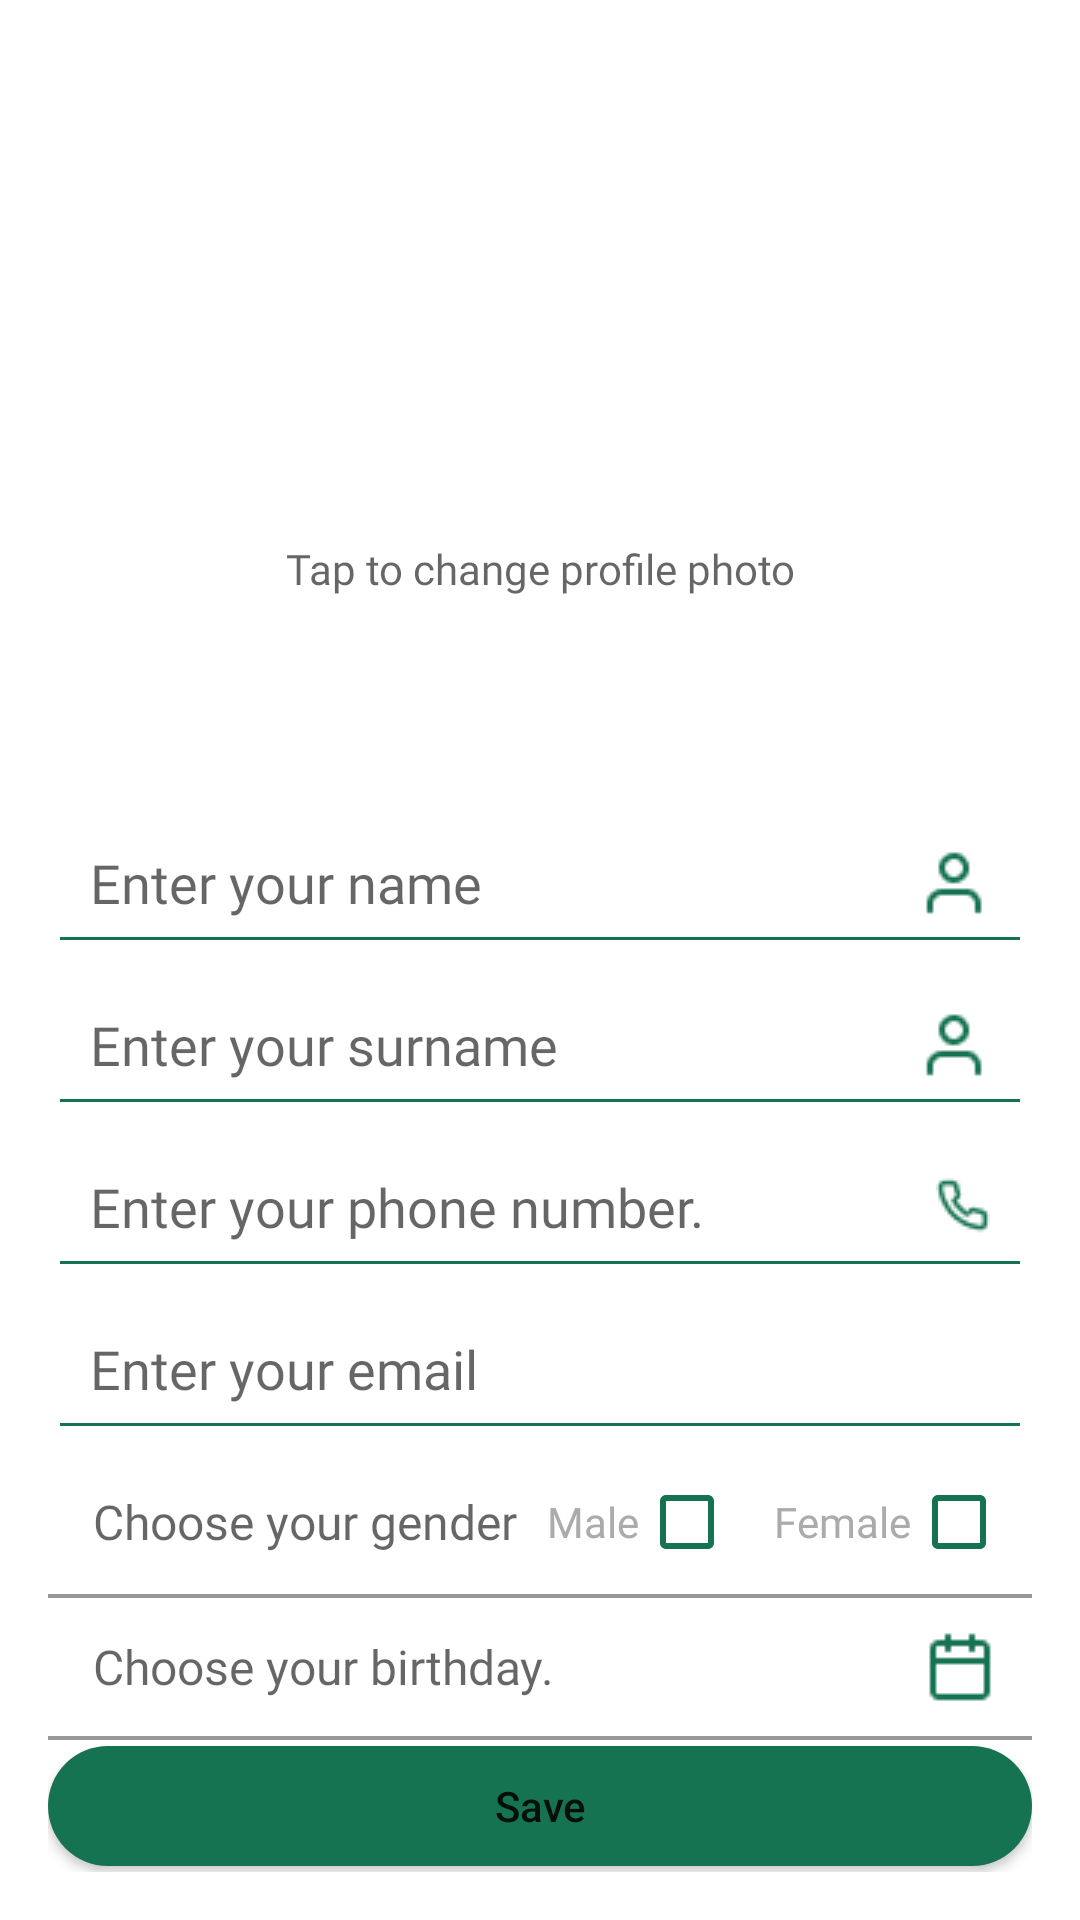

Icon click points for this 1080px x 1920px phone screenshot, format (x,y):
calendar: (960,1667)
